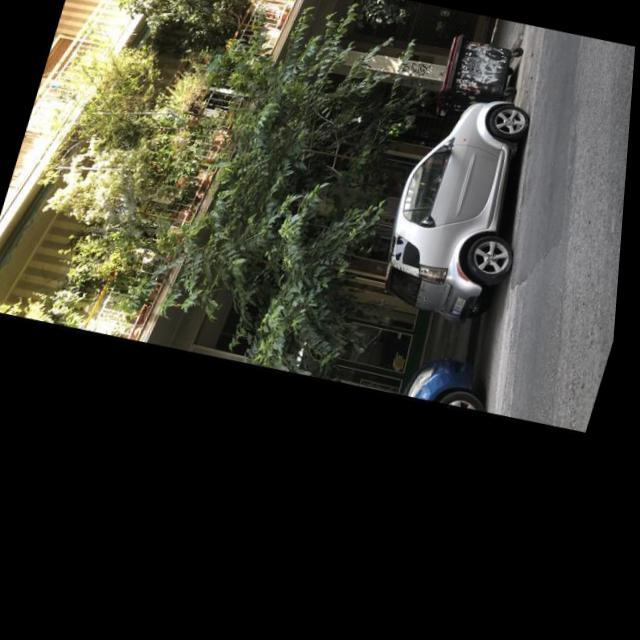-: (468, 46, 512, 90), (396, 76, 442, 96), (398, 60, 432, 80)
